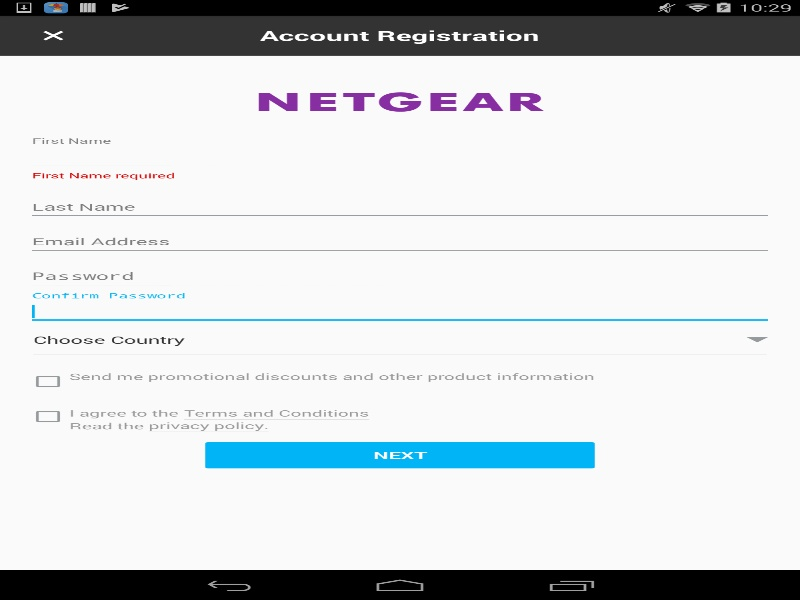Button: (200, 438, 600, 472), (10, 15, 96, 55)
Input: (26, 143, 773, 170), (26, 263, 773, 290), (26, 298, 773, 325), (26, 194, 773, 220), (26, 229, 773, 255)
